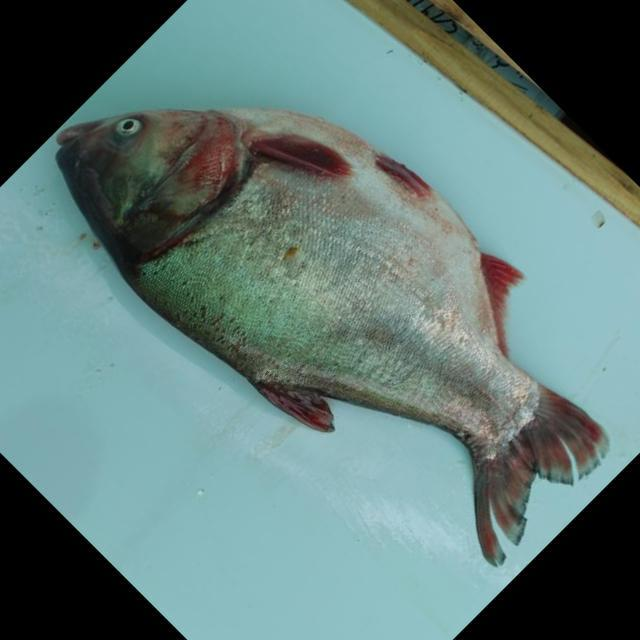SilverCarp: (47, 117, 636, 539)
